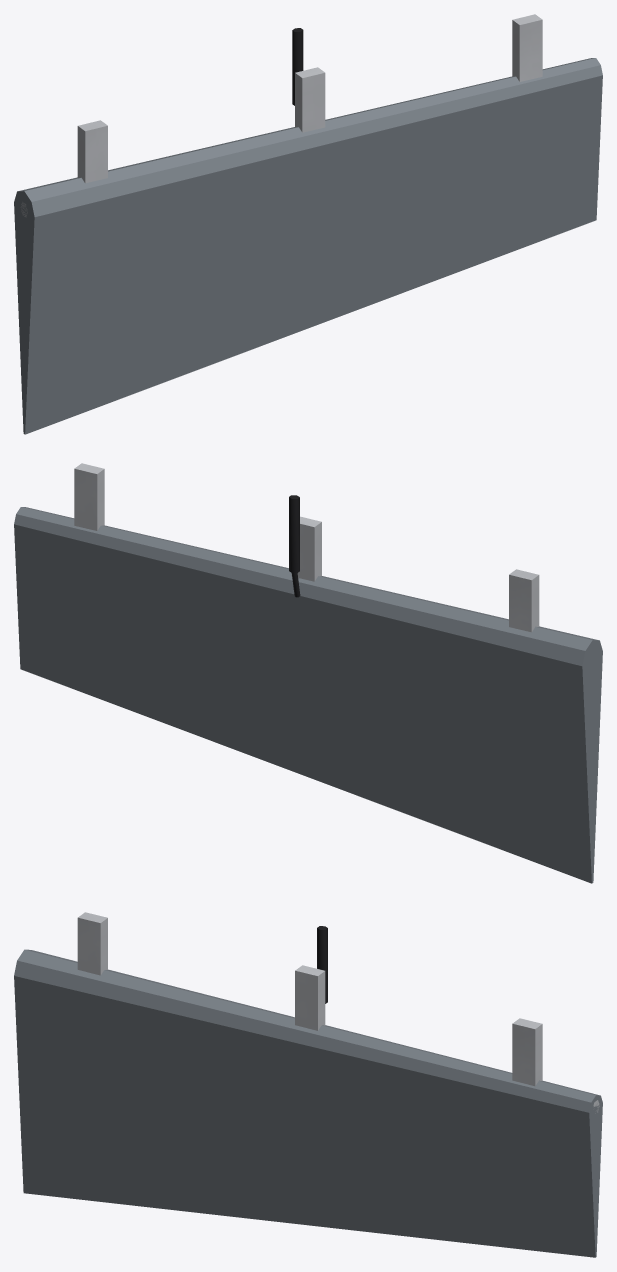
The model's file is jet09_control_surface_rudder_s.glb.
3 renders of one model, top to bottom at view 1: azimuth 30°, elevation 25°; view 2: azimuth 150°, elevation 25°; view 3: azimuth 330°, elevation 25°, orthographic.
Parts seen in each view (by area): view 1: surface, hinge_fittings, actuator; view 2: surface, hinge_fittings, actuator; view 3: surface, hinge_fittings, actuator.
Boxes of the visible parts, x1,y1,x2,y2 form: surface: (14,58,602,434); hinge_fittings: (20,14,542,217); actuator: (292,28,303,105); surface: (14,507,602,883); hinge_fittings: (74,463,539,632); actuator: (289,495,300,597); surface: (14,949,602,1257); hinge_fittings: (77,912,599,1113); actuator: (317,926,327,1003).
Bounding box in the file's own units: 1.6 × 0.87 × 0.122.
Materials: 3 (1 with a texture image).
